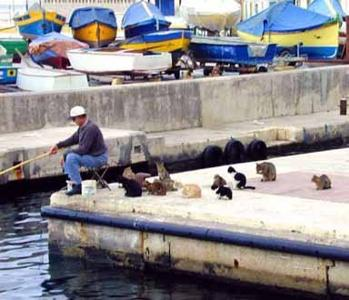person: (48, 106, 109, 198)
